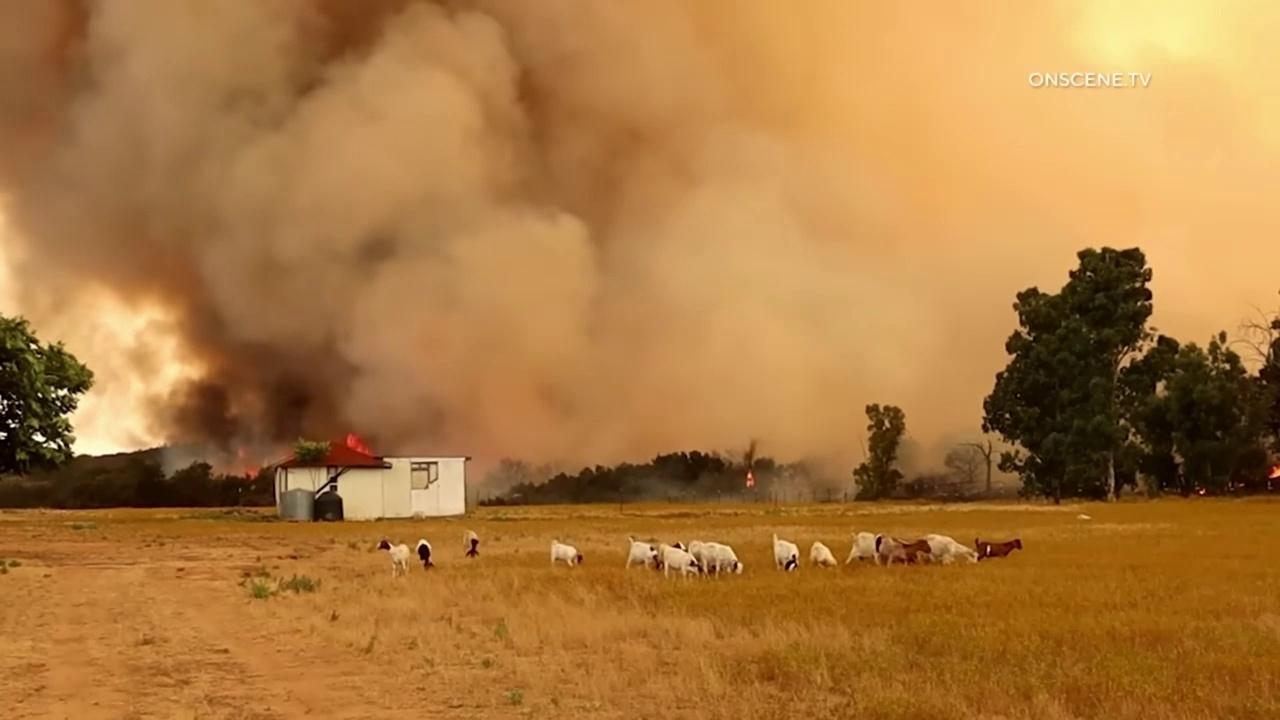fire: (345, 432, 370, 455), (245, 467, 263, 479), (746, 467, 755, 488), (1267, 464, 1280, 478), (1199, 488, 1206, 495)
smoke: (0, 0, 1280, 504)
